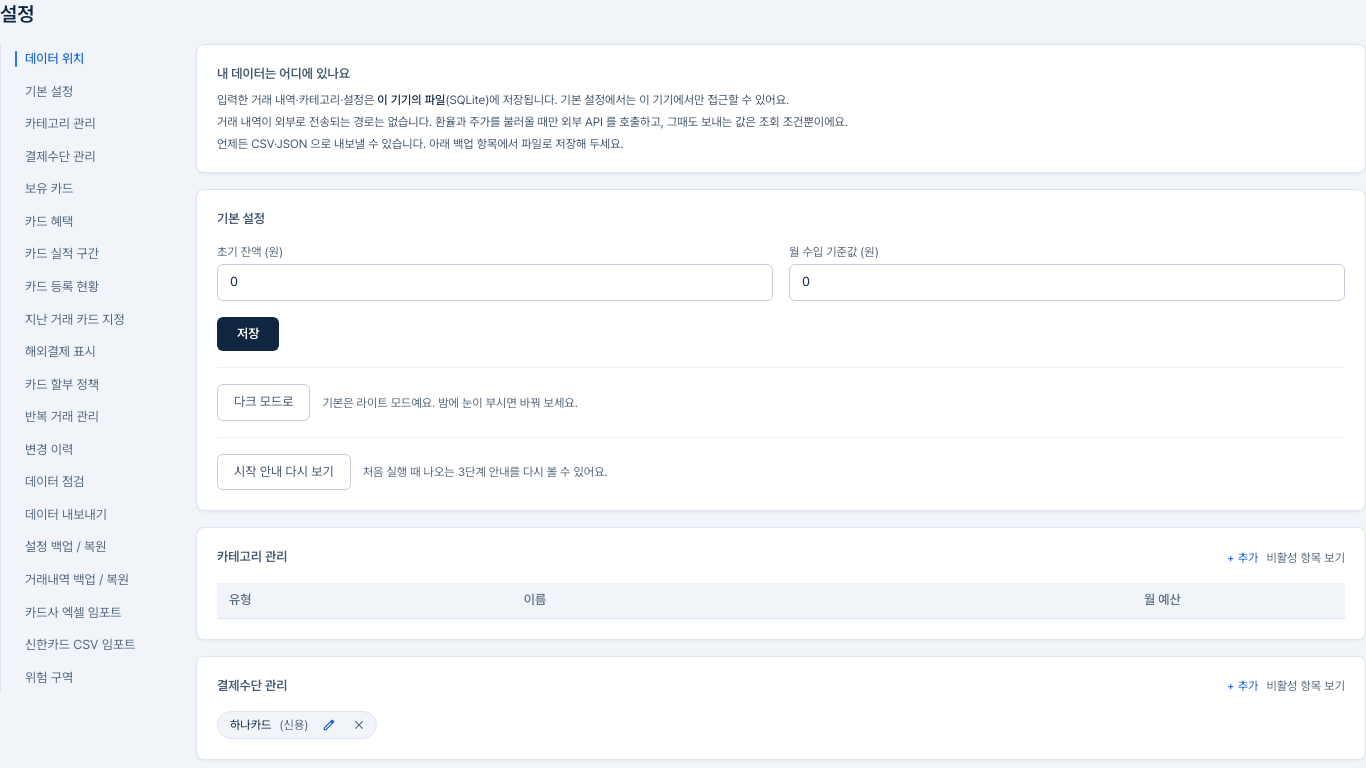
Scenario: 비활성화 › 실패하면 사유를 알린다
The width and height of the screenshot is (1366, 768).
Click the button named "비활성화".
click(359, 725)  # box [346,716,372,734]
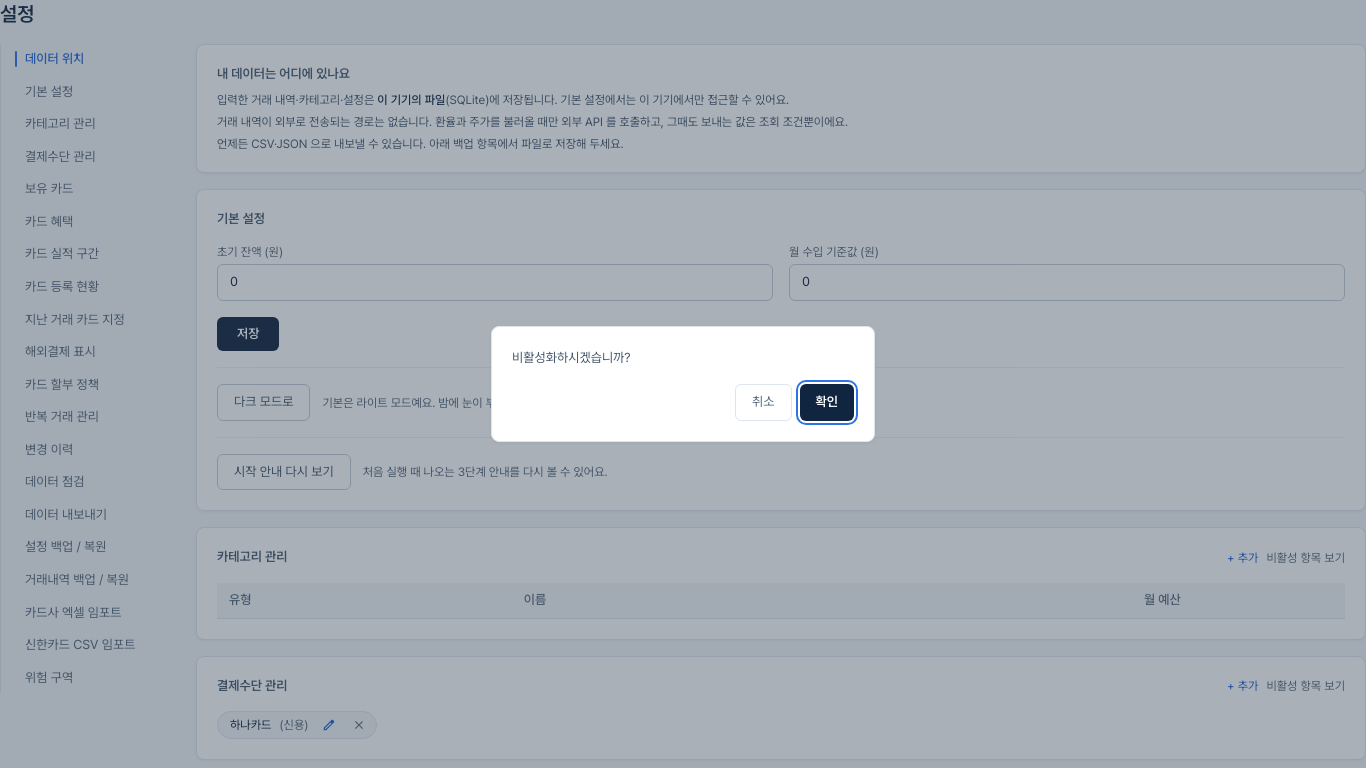
Click the button "확인".
click(827, 403)  # box [800,384,854,421]
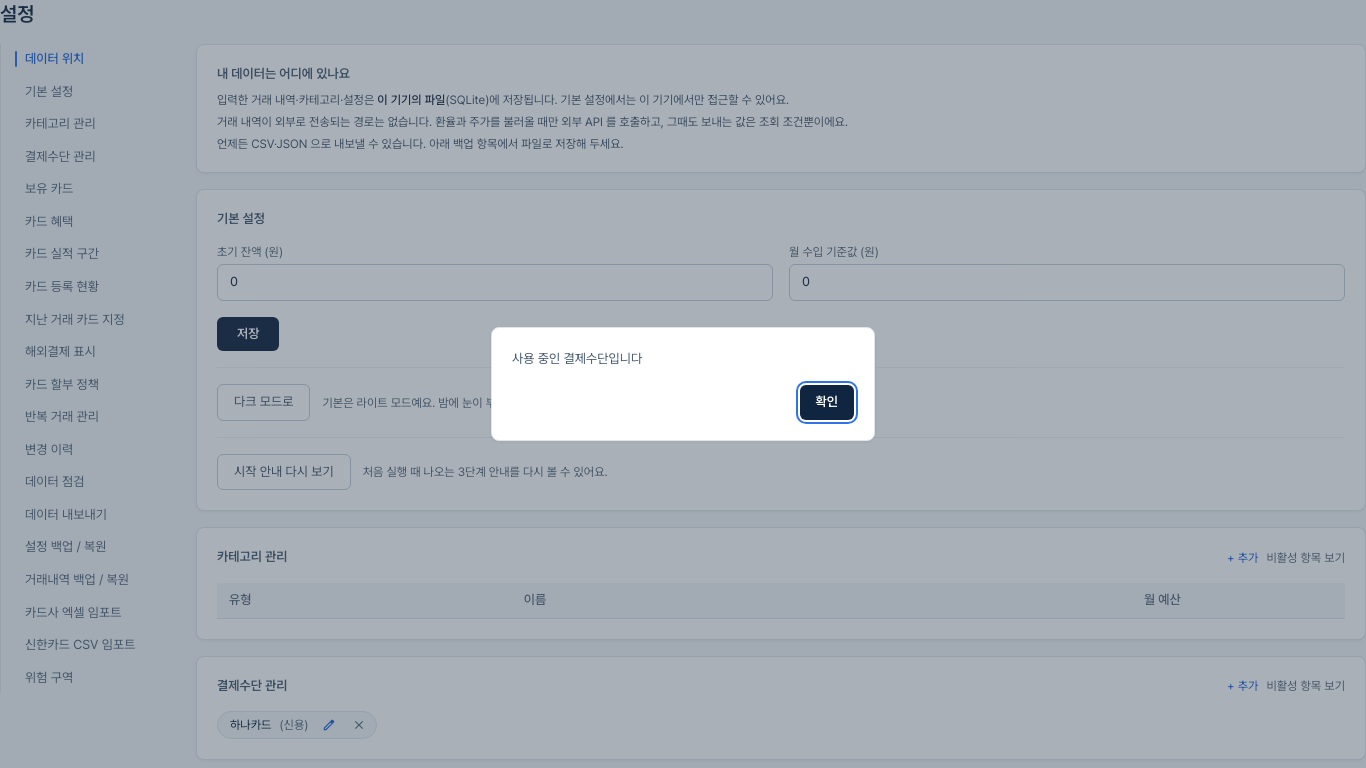
Expected: the text "사용 중인 결제수단입니다" is shown, [512,351,642,366]
